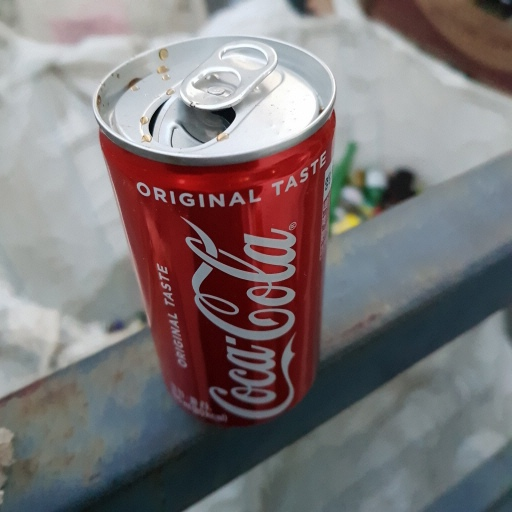Metal_0: (86, 31, 339, 425)
